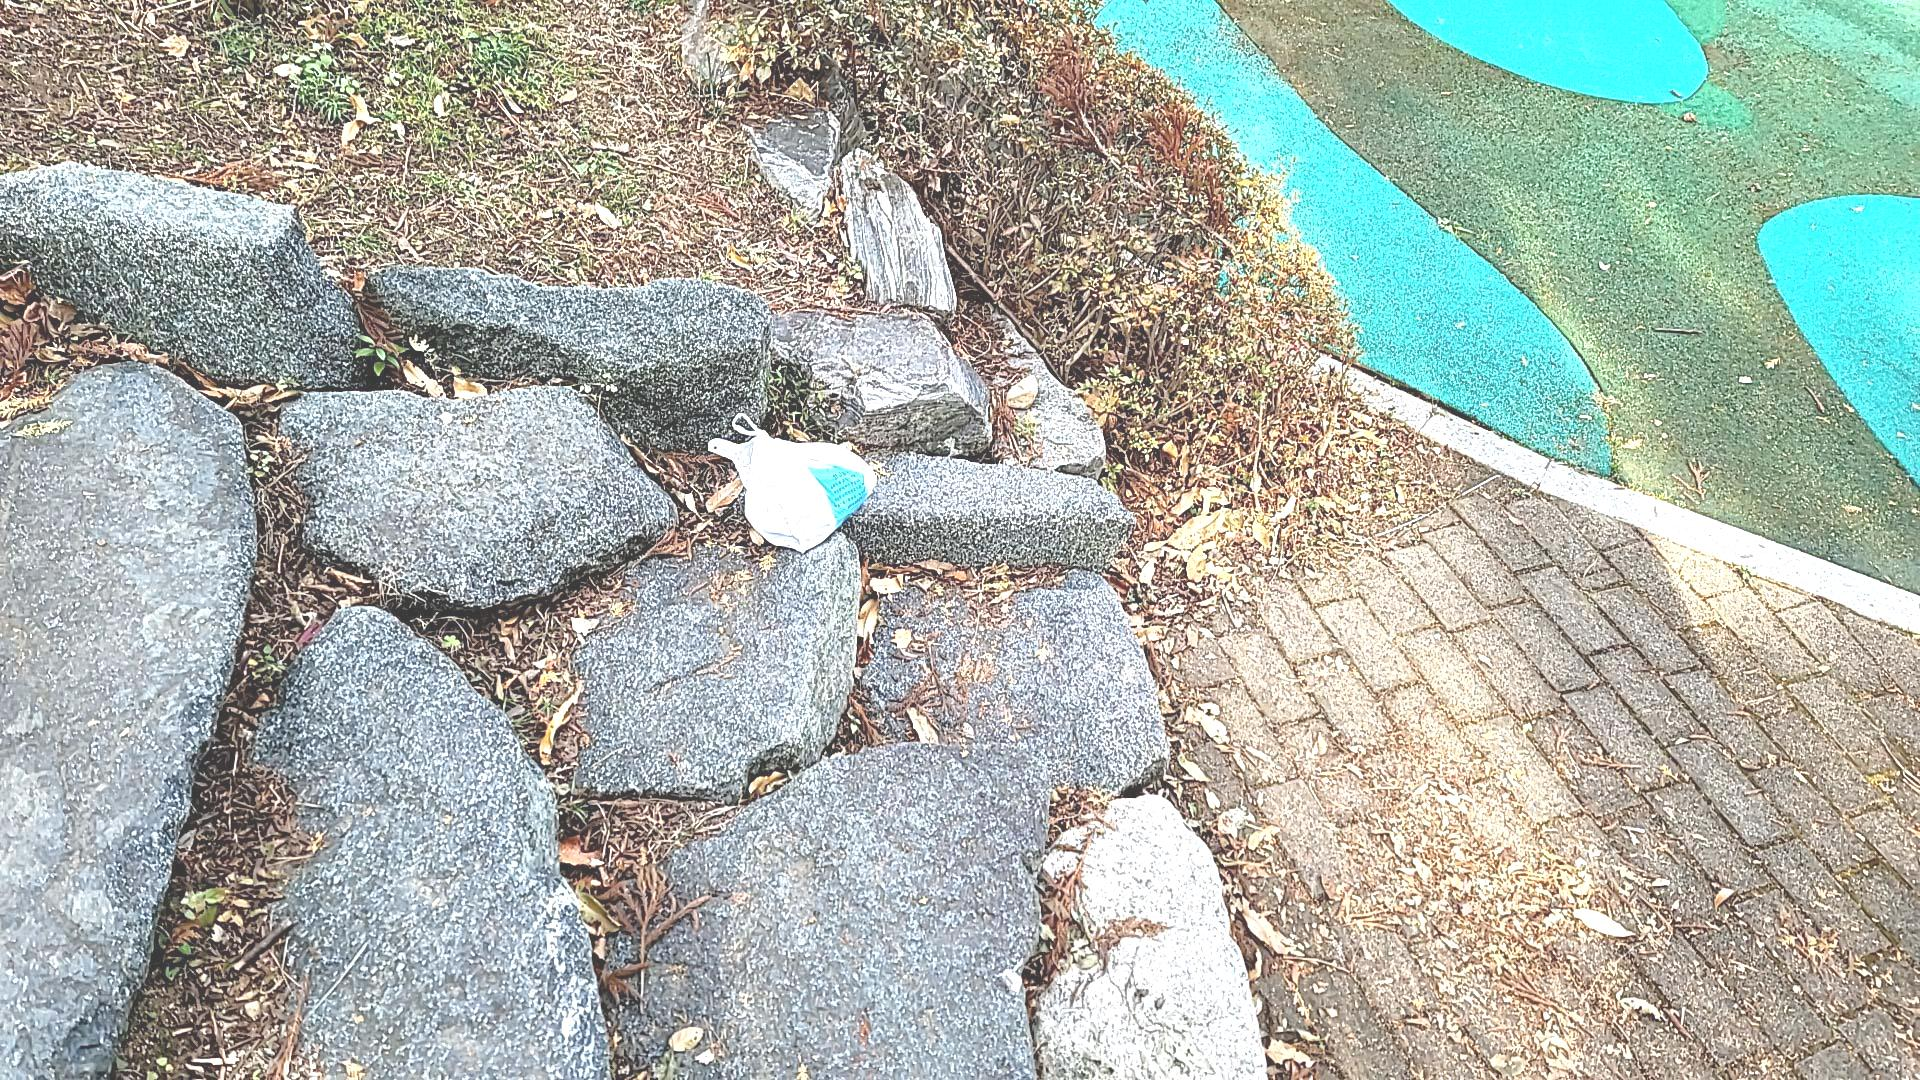white_bag: (702, 411, 880, 560)
